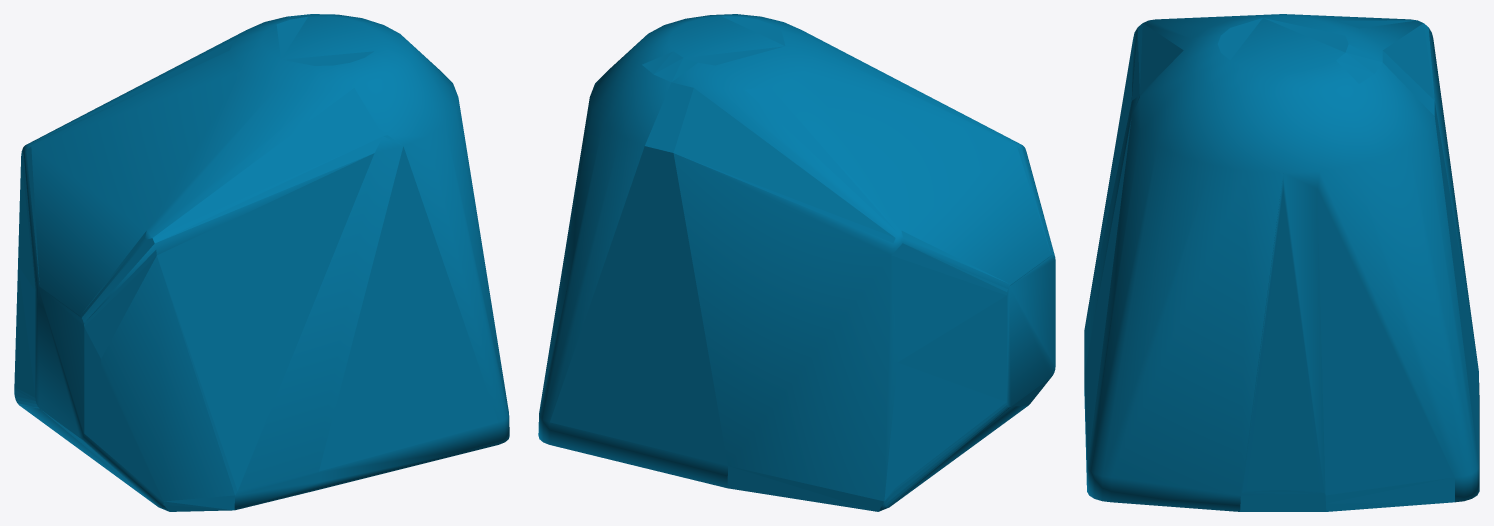
3 views of the same model, side by side, from view 1: azimuth 30°, elevation 25°; view 2: azimuth 150°, elevation 25°; view 3: azimuth 270°, elevation 25° (orthographic). The views are drawn at different scales.
Visible parts, largest first — view 1: base_link; view 2: base_link; view 3: base_link.
Boxes of the visible parts, box(x1,y1,x2,y2) form: base_link: box(14, 14, 509, 511); base_link: box(538, 14, 1055, 511); base_link: box(1084, 14, 1479, 511).
Bounding box in the file's own units: 0.2316 × 0.1749 × 0.195.
